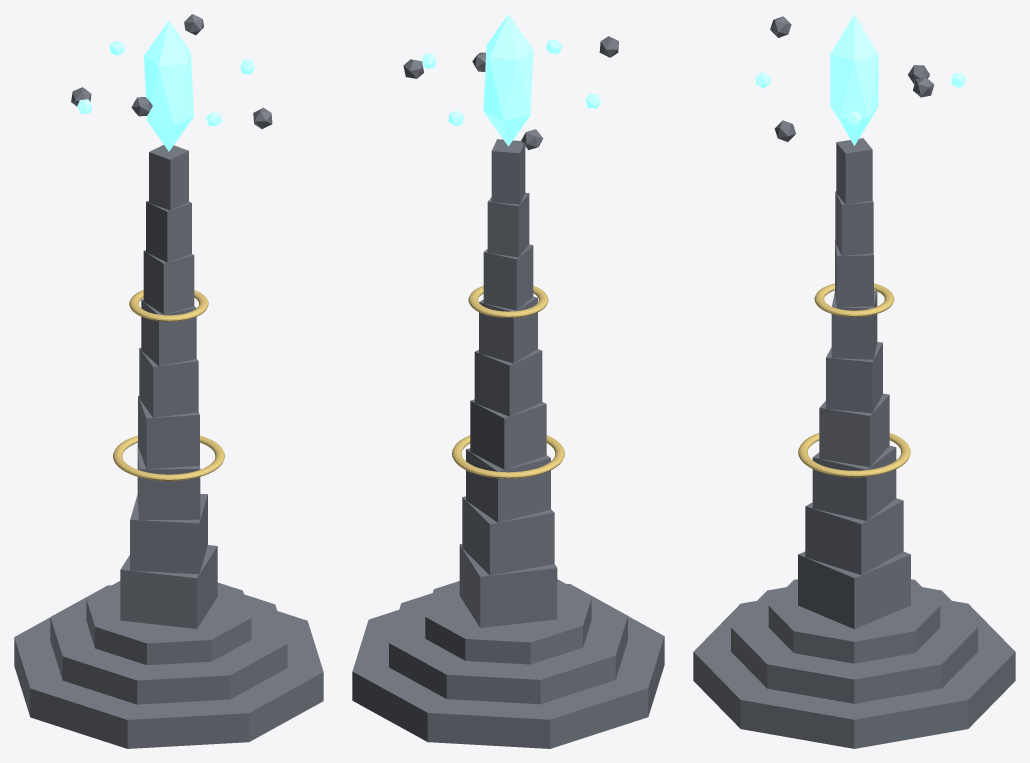
The model's file is arcane_monument.glb.
The picture shows the model from 3 angles, left to right: view 1: azimuth 30°, elevation 25°; view 2: azimuth 150°, elevation 25°; view 3: azimuth 270°, elevation 25°; orthographic projection.
Visible parts, largest first — view 1: ArcaneMonument; view 2: ArcaneMonument; view 3: ArcaneMonument.
Part boxes in pixels (bbox=[...]): ArcaneMonument: bbox=[14, 14, 323, 748]; ArcaneMonument: bbox=[352, 14, 664, 748]; ArcaneMonument: bbox=[693, 14, 1015, 748].
Bounding box in the file's own units: 6 × 13.71 × 6.
